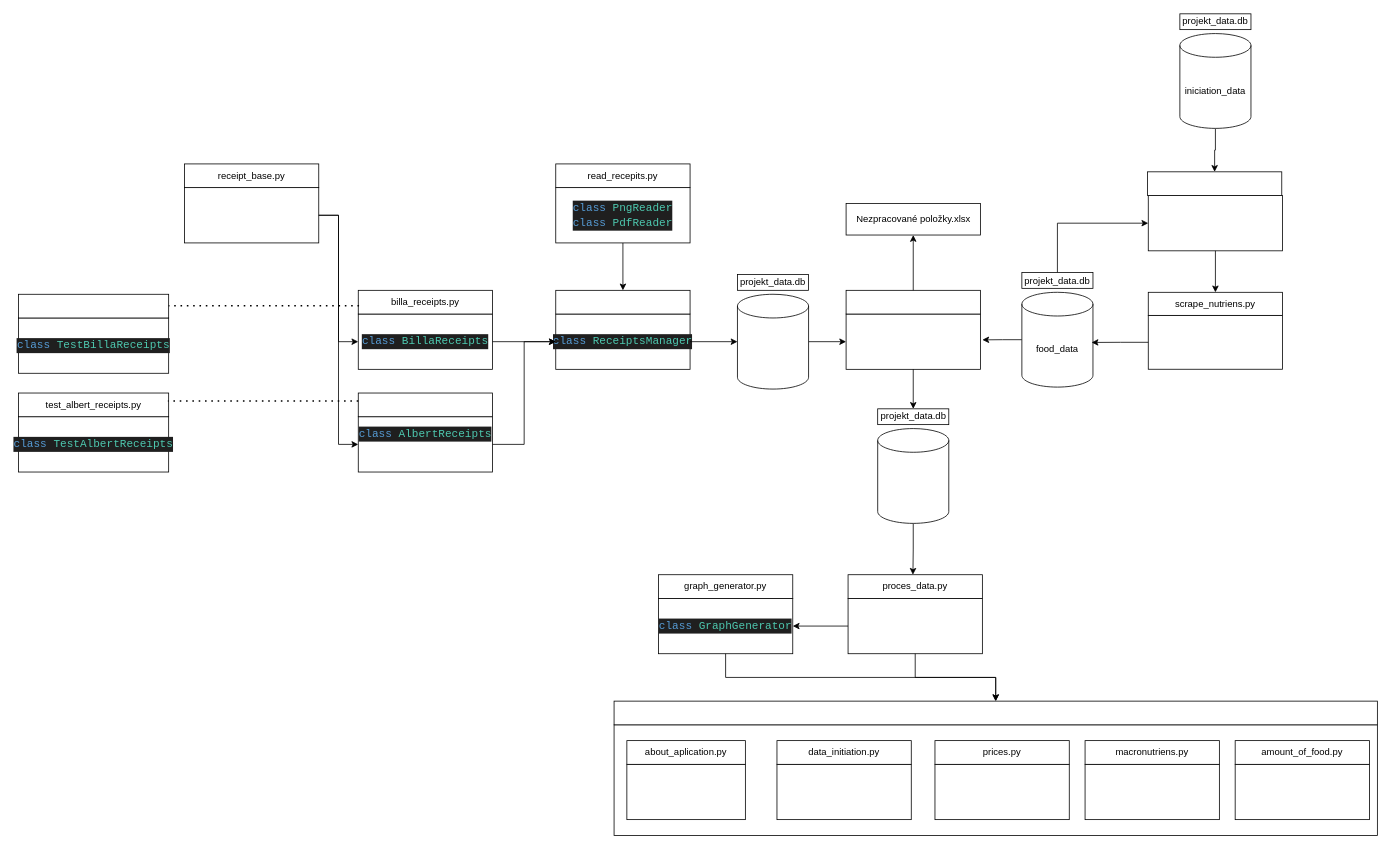
The diagram is 1391 pixels wide and 849 high, and some of its shapes have lost their labels. The box of each missing label's shape, as (x1, y1, x2, y2) in pixels:
albert_receipts.py: (357, 392, 493, 417)
app.py: (613, 700, 1377, 725)
class FoodForScraping: (1147, 195, 1283, 251)
class MainDataStore: (845, 313, 980, 369)
class ProcesData: (847, 598, 982, 654)
class Receipts: (184, 187, 319, 243)
class ScrapeNutriens: (1147, 315, 1283, 369)
final_data: (877, 428, 949, 523)
food_for_scraping.py: (1147, 171, 1282, 196)
main_data_store.py: (845, 290, 980, 314)
receipts_manager.py: (555, 290, 690, 314)
receipts_table: (737, 293, 809, 389)
test_billa_receipts.py: (18, 293, 169, 318)
